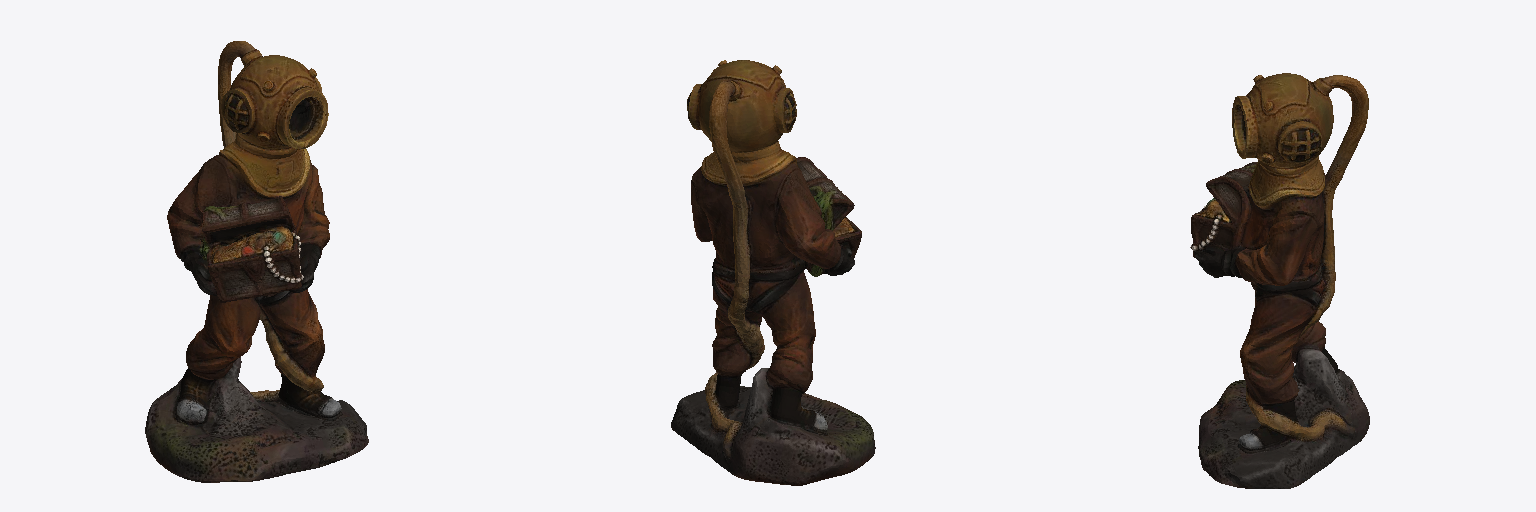
3 views of the same model, side by side, from view 1: azimuth 30°, elevation 25°; view 2: azimuth 150°, elevation 25°; view 3: azimuth 270°, elevation 25° (orthographic).
Bounding box in the file's own units: 0.522 × 1 × 0.4317.
Materials: 1 (1 with a texture image).